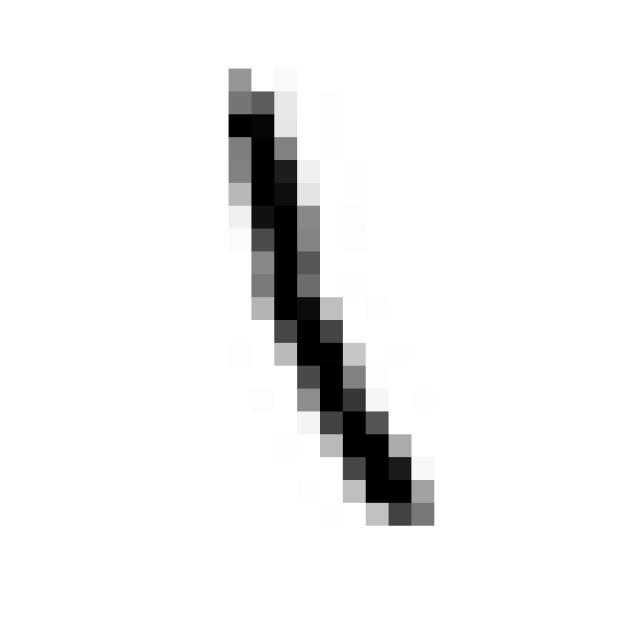1 -one-: (201, 48, 452, 543)
